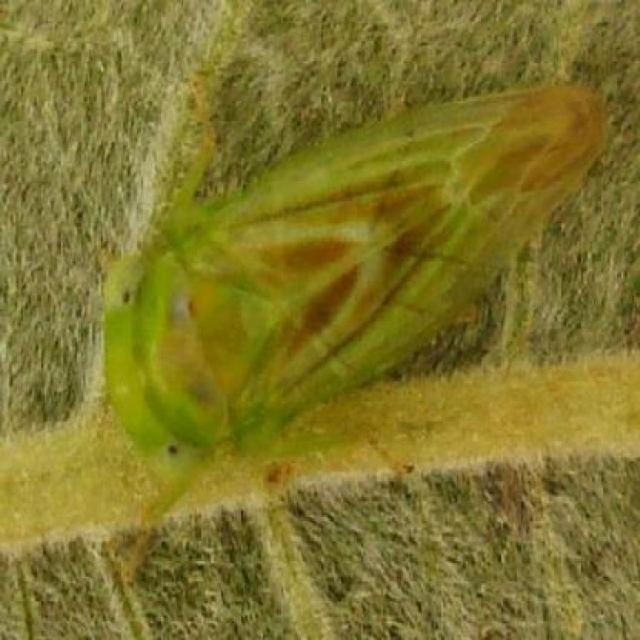green-leafhopper: (103, 79, 616, 586)
